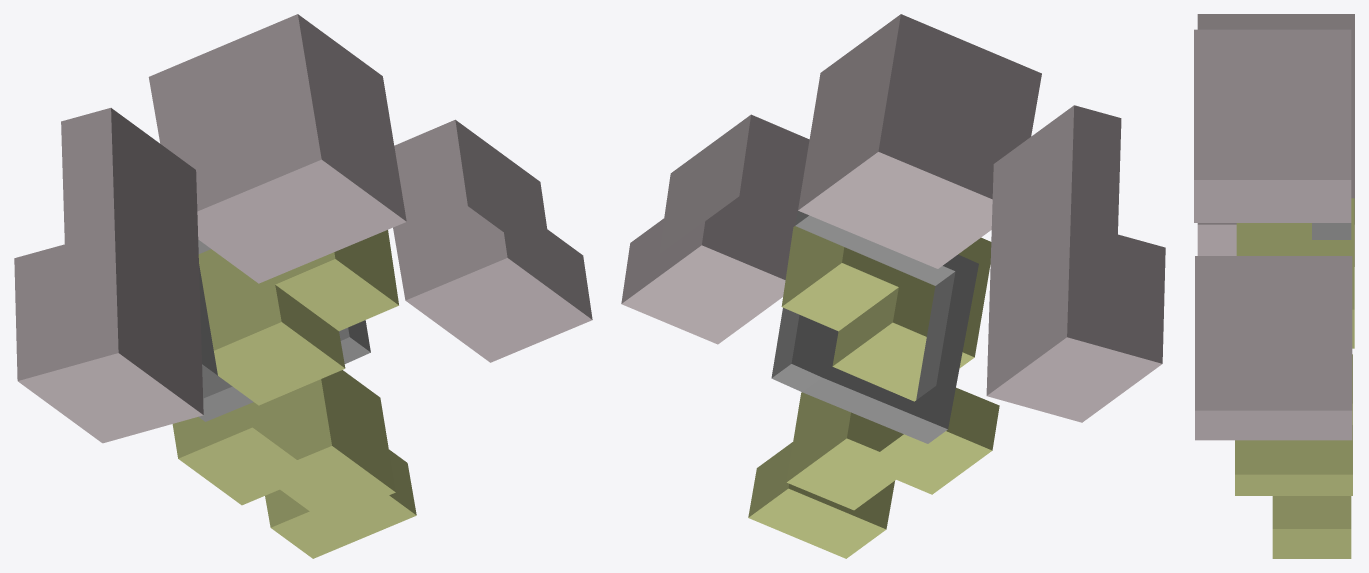
3 renders of one model, left to right at view 1: azimuth 30°, elevation 25°; view 2: azimuth 150°, elevation 25°; view 3: azimuth 270°, elevation 25°, orthographic. The views are drawn at different scales.
Parts seen in each view (by area): view 1: 0_1_2_3_3_3_3_0_0; view 2: 0_1_2_3_3_3_3_0_0; view 3: 0_1_2_3_3_3_3_0_0.
Boxes of the visible parts, bbox=[...] form: 0_1_2_3_3_3_3_0_0: bbox=[14, 14, 592, 558]; 0_1_2_3_3_3_3_0_0: bbox=[621, 14, 1165, 558]; 0_1_2_3_3_3_3_0_0: bbox=[1194, 14, 1354, 558].
Size of the model in its own units: 40.06 by 39.47 by 12.26.
